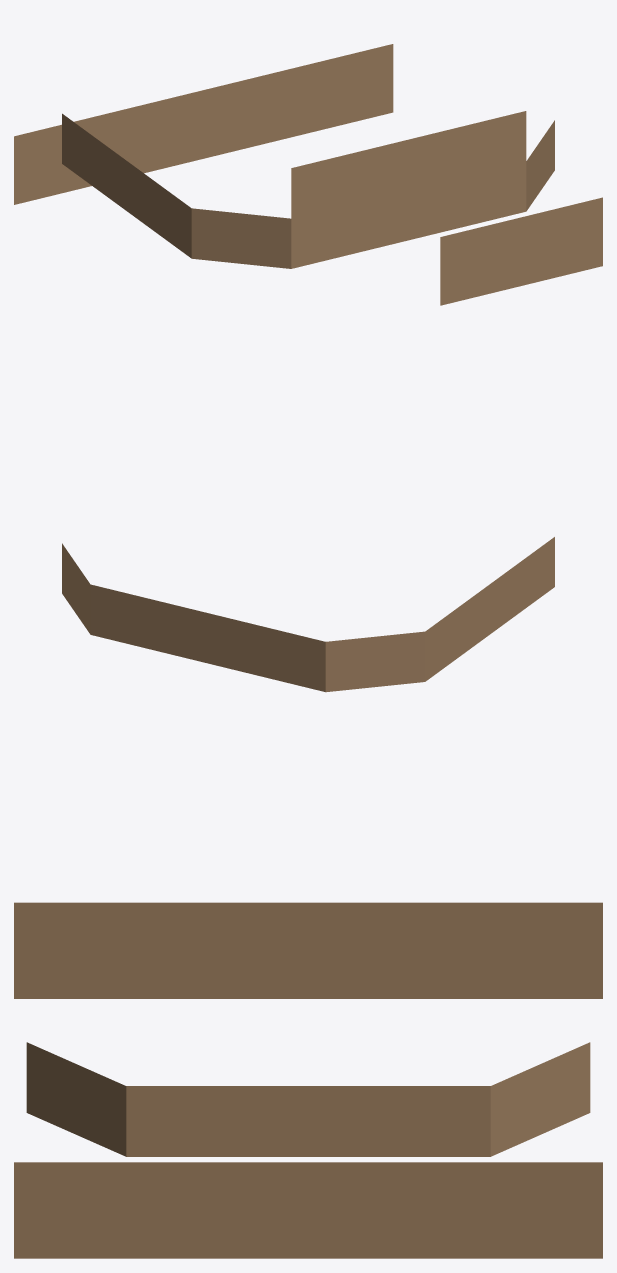
File: 1354-Buildings-shell-pieces-facade-bay-wall-round-an-opening-reveals-sill-head-emitBa.glb
3 renders of one model, top to bottom at view 1: azimuth 30°, elevation 25°; view 2: azimuth 150°, elevation 25°; view 3: azimuth 270°, elevation 25°, orthographic. The views are drawn at different scales.
Parts seen in each view (by area): view 1: emitBay; view 2: emitBay; view 3: emitBay.
Part boxes in pixels (x1,y1,x2,y2): emitBay: (14,44,602,305); emitBay: (62,537,554,692); emitBay: (14,902,602,1258).
Bounding box in the file's own units: 24 × 10.25 × 23.
